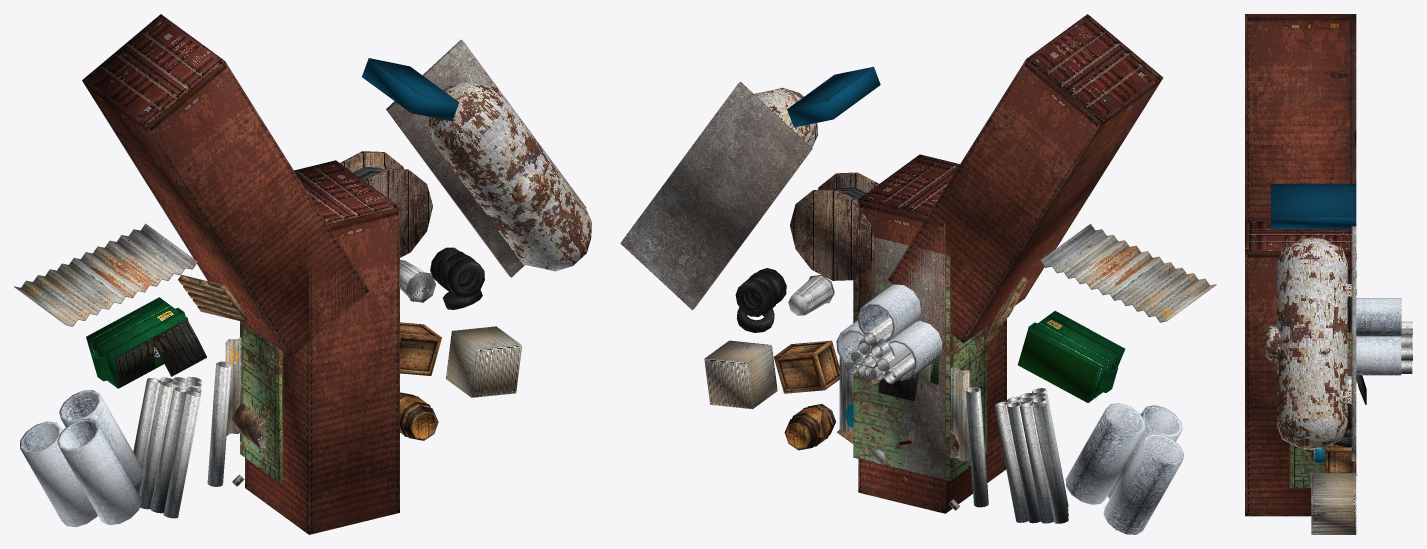
The model's file is psx-industrial-pack-12cb74.glb.
3 renders of one model, left to right at view 1: azimuth 30°, elevation 25°; view 2: azimuth 150°, elevation 25°; view 3: azimuth 270°, elevation 25°, orthographic. The views are drawn at different scales.
Parts seen in each view (by area): view 1: PropMesh; view 2: PropMesh; view 3: PropMesh.
Part boxes in pixels (box(x1,y1,x2,y2)): PropMesh: box(14, 14, 591, 534); PropMesh: box(620, 14, 1216, 534); PropMesh: box(1245, 14, 1412, 534).
Bounding box in the file's own units: 2.67 × 2.2 × 0.7816.
2 materials, 2 textured.
